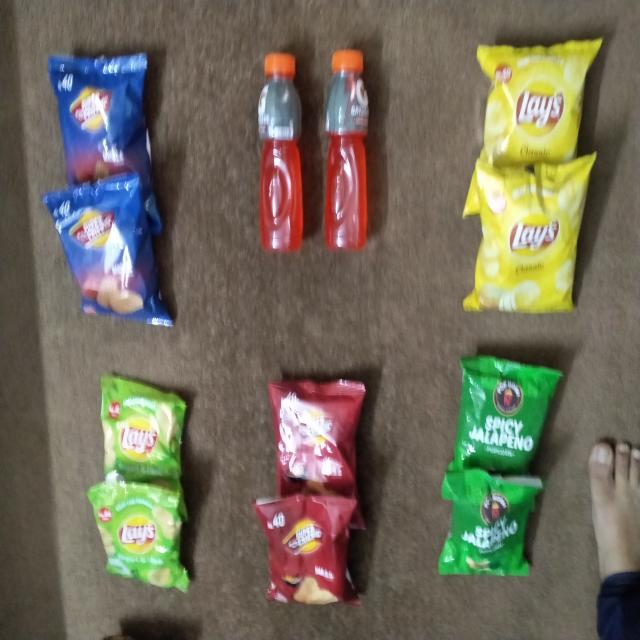Plastic: (44, 182, 176, 330), (467, 166, 588, 310), (475, 38, 606, 158), (44, 52, 159, 184), (456, 346, 564, 472), (253, 489, 360, 608), (267, 372, 367, 494), (86, 482, 192, 590), (254, 50, 306, 259), (440, 475, 537, 583), (322, 49, 370, 252), (98, 376, 188, 482)
